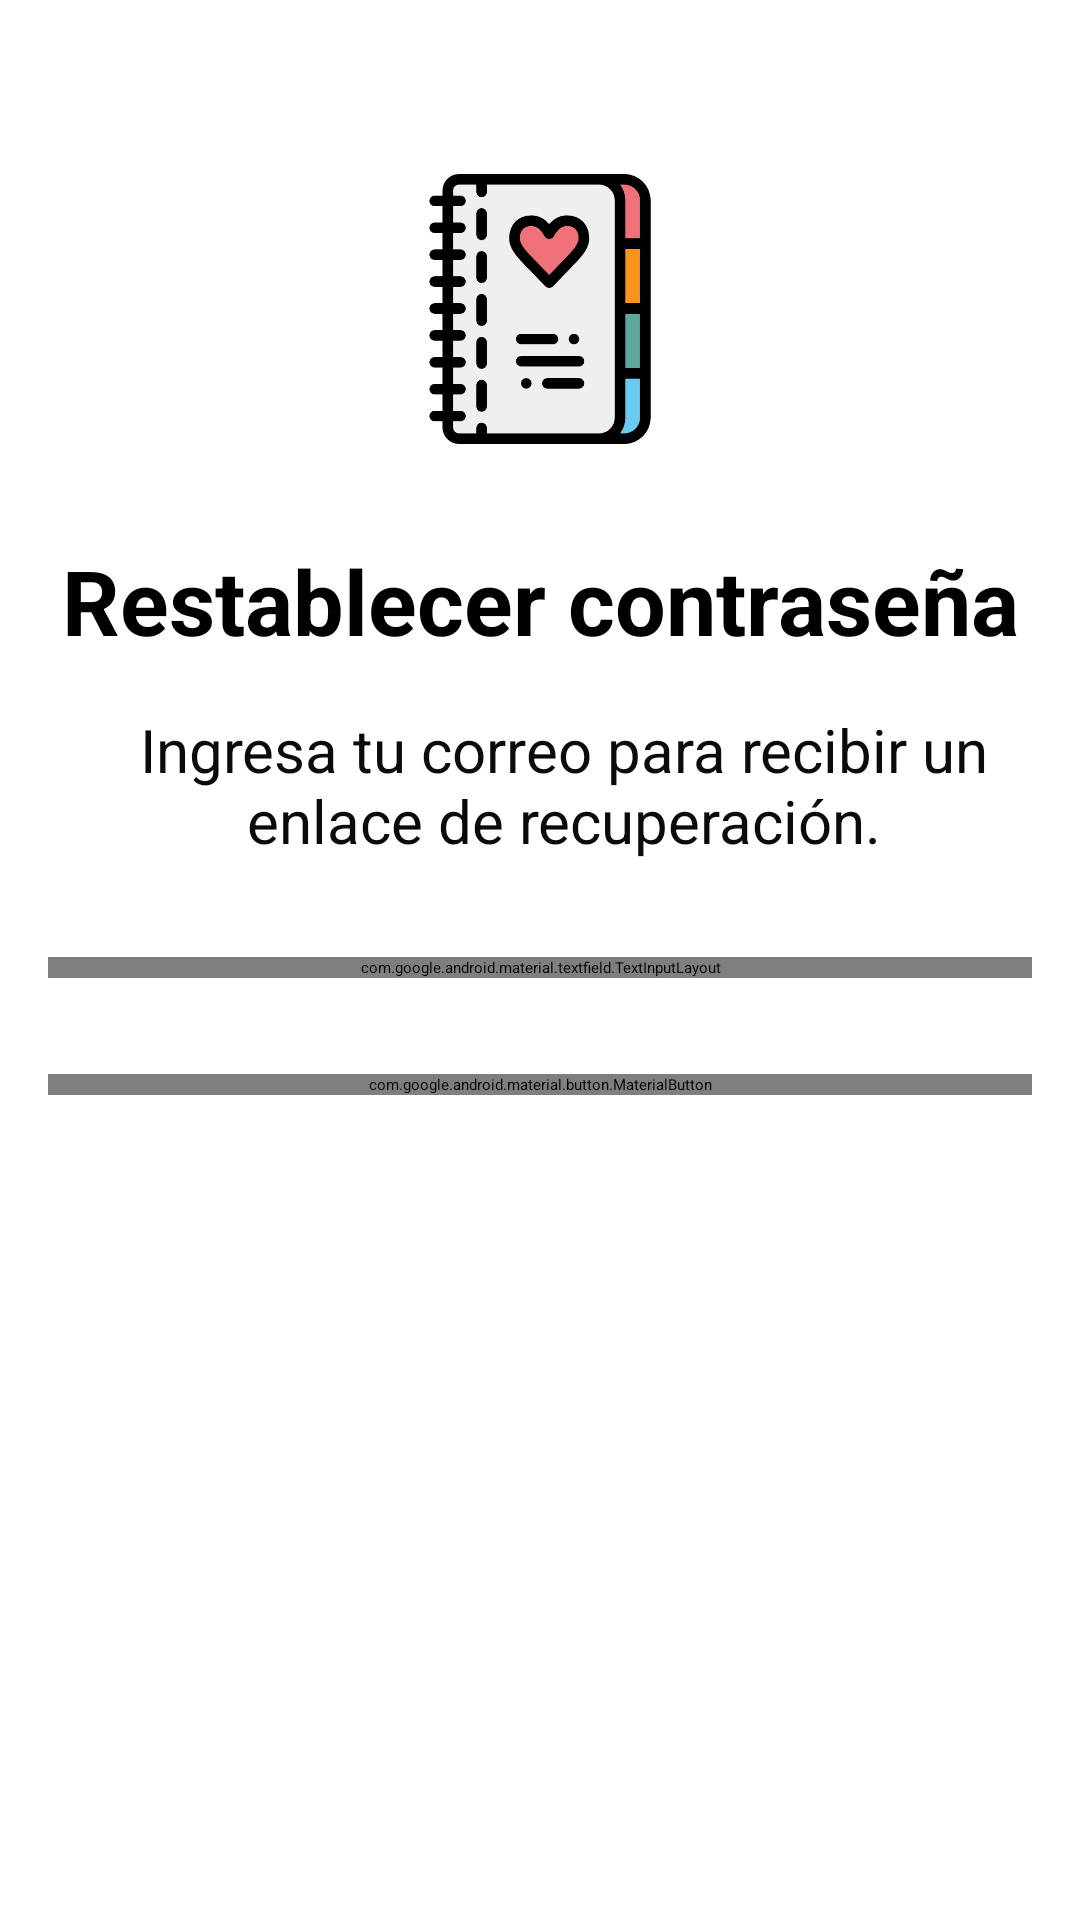

Icons on this 1080px×1920px Android screen, each with its box as (x1=x1, y1=y1, x2=x2, y2=y2):
agenda: (x1=429, y1=174, x2=651, y2=444)
